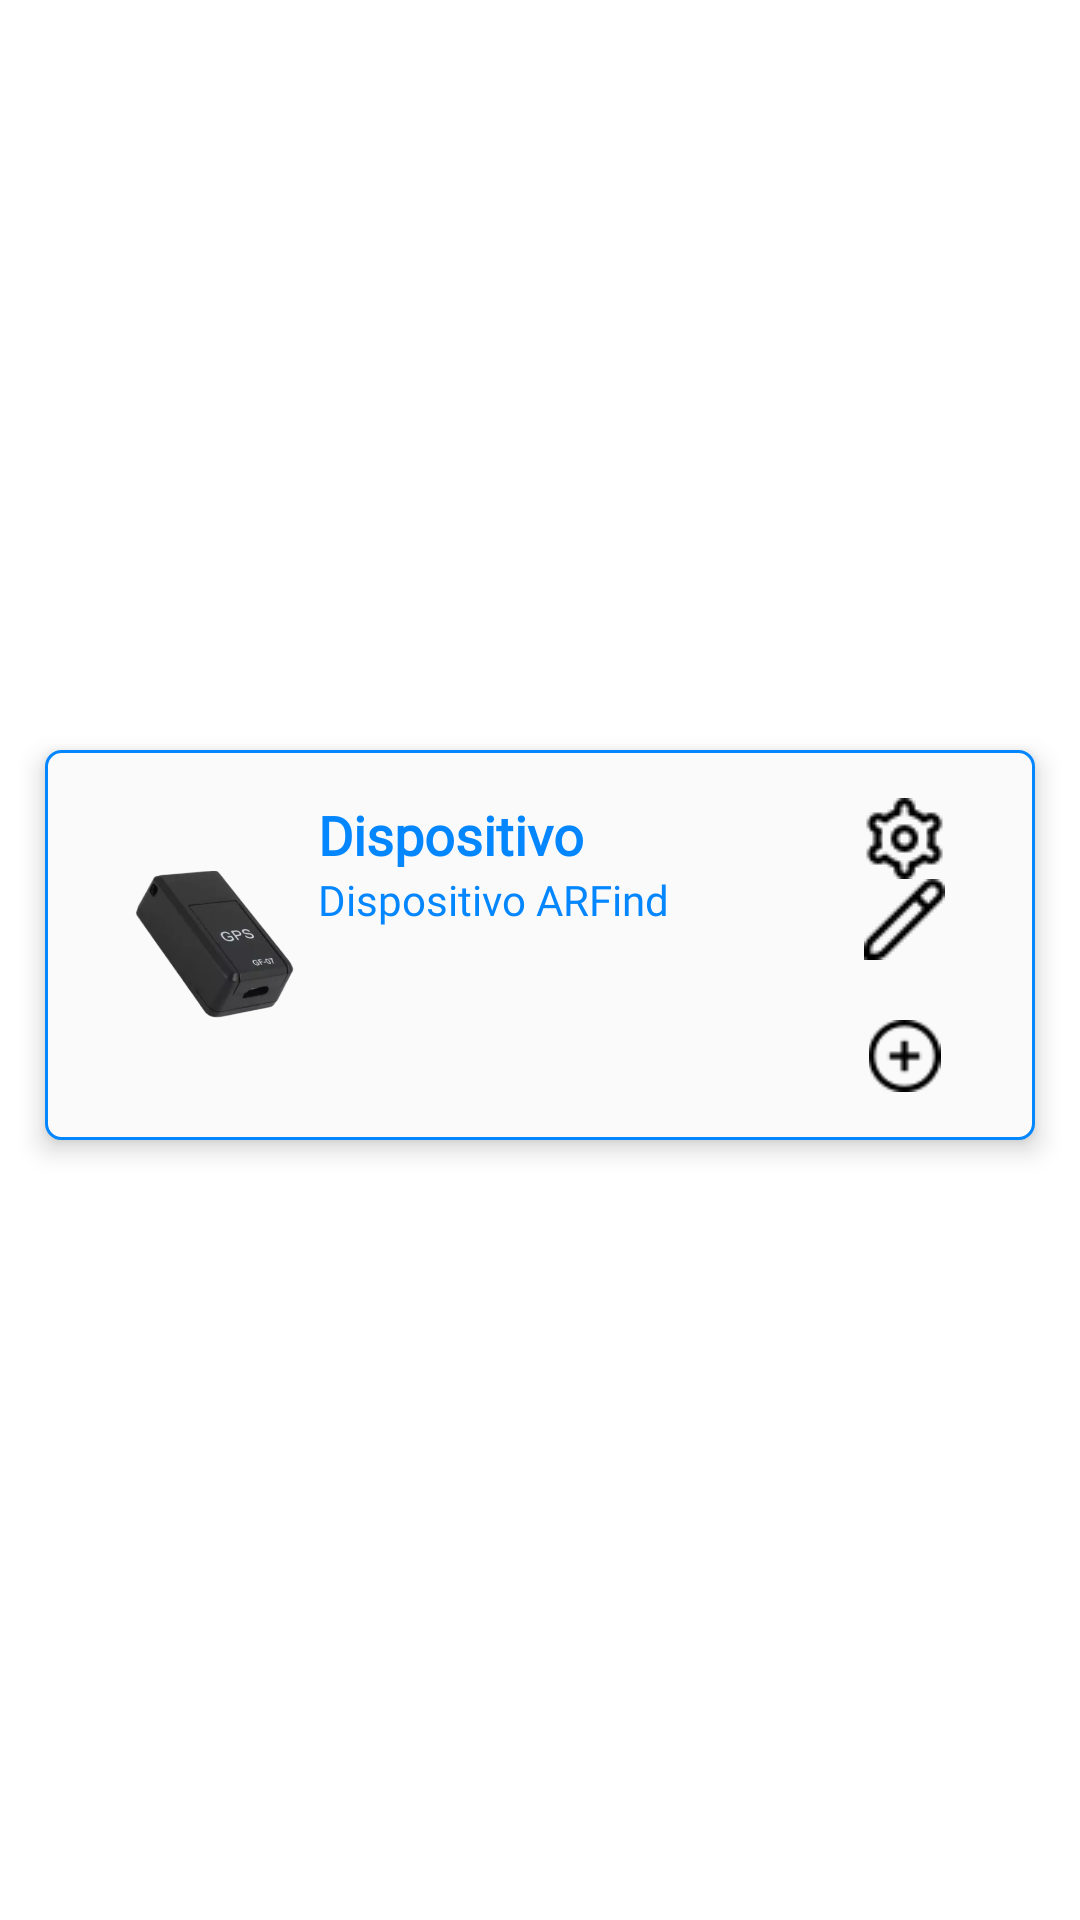

Icons on this 1080px×1920px Android screen, each with its box as (x1, y1, x2, y2):
agregar: (869, 1020, 941, 1092)
config: (866, 798, 943, 879)
lapiz: (864, 879, 945, 960)
